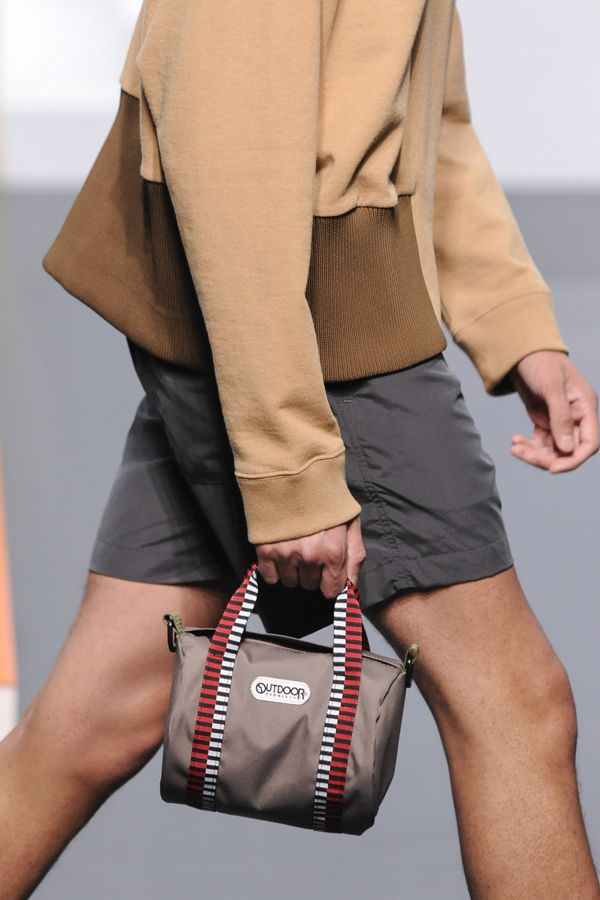nylon: (158, 560, 420, 836)
